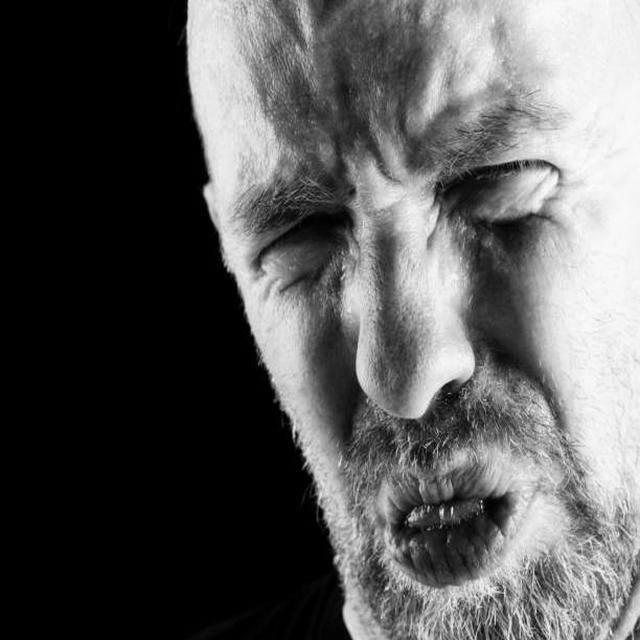Disgust: (188, 1, 640, 640)
